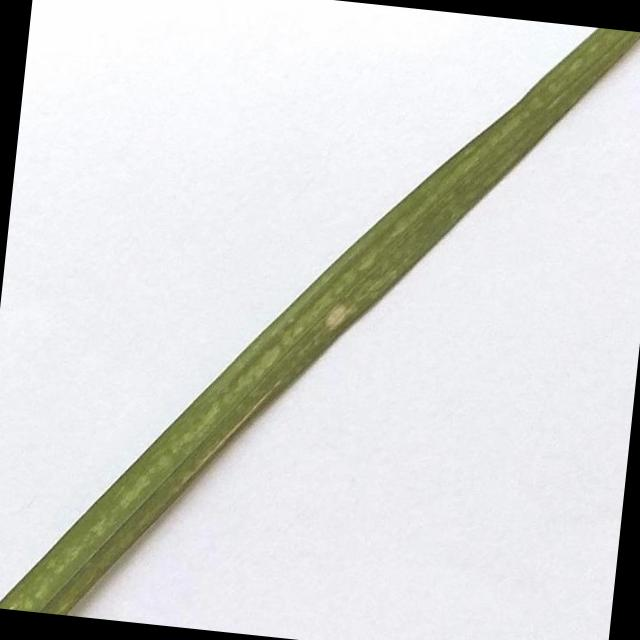Rice_Blast: (316, 291, 360, 340)
